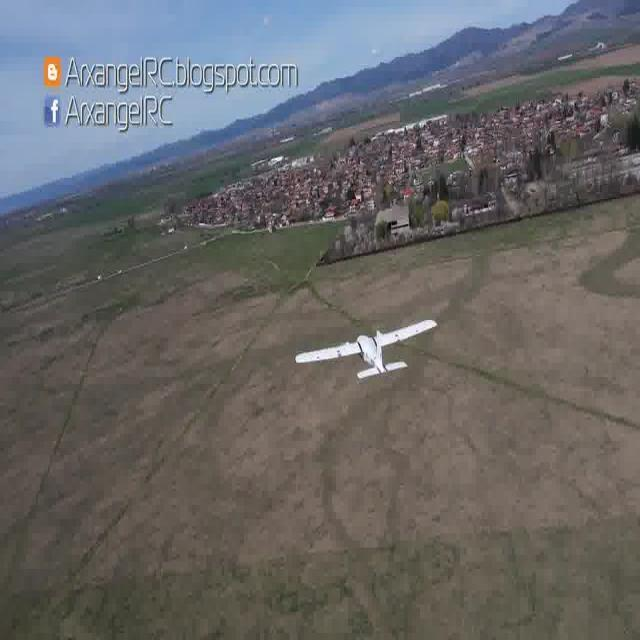iha: (296, 348, 440, 352)
